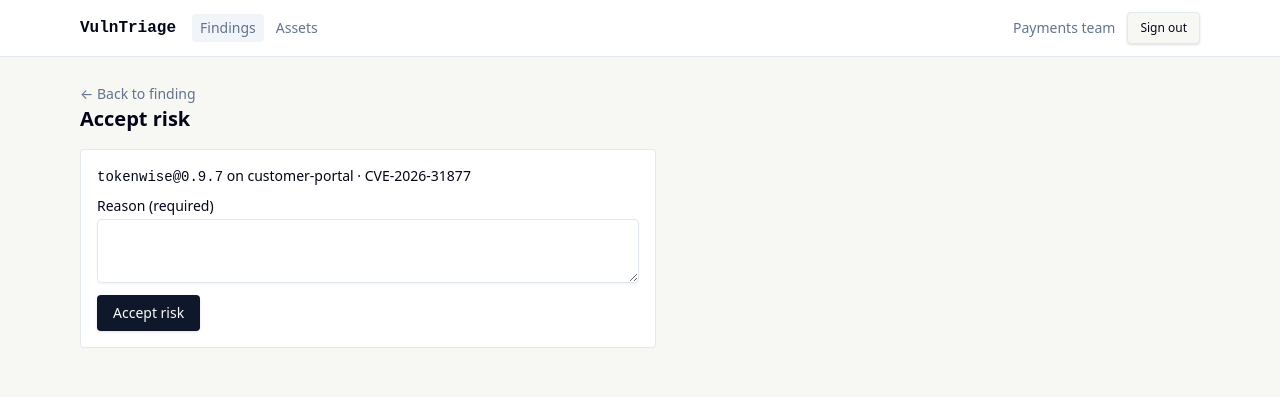
Test case: contract-shaped screens › shows the forbidden message on the accept screen and leaves the finding open
Type "Not my asset" into the text box labelled "Reason (required)" at (368, 251), box x1=97 y1=219 x2=639 y2=283
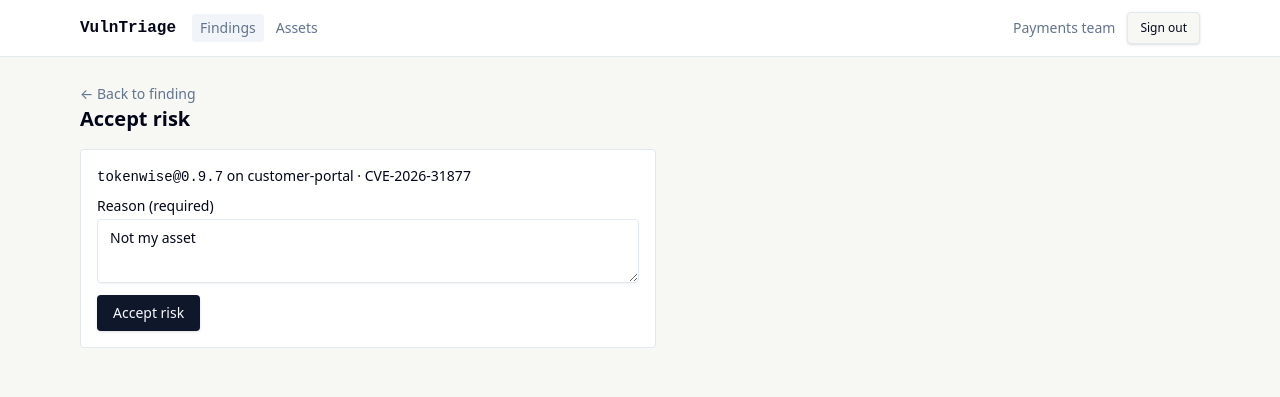
Click the button "Accept risk" at (149, 313), box x1=97 y1=295 x2=200 y2=331
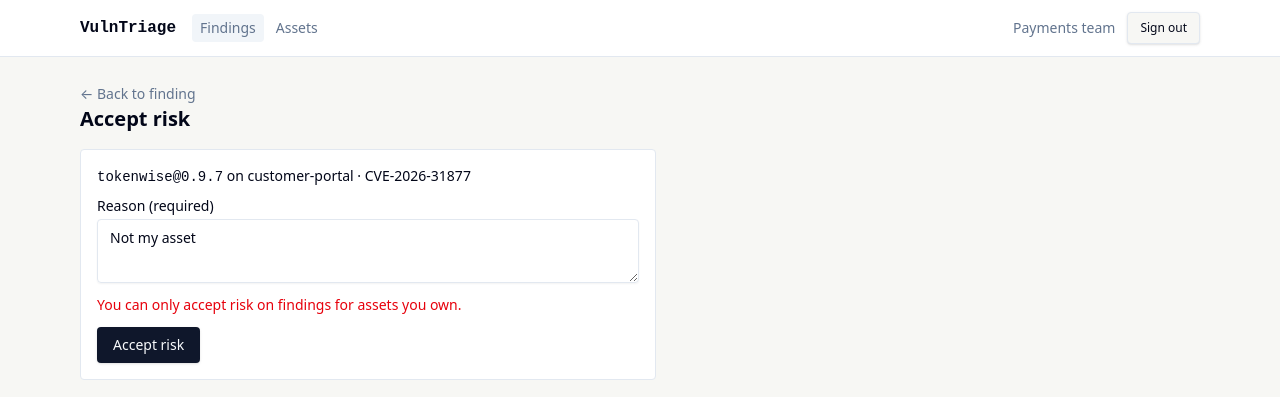
Check: the message reads "You can only accept risk on findings for assets you own.", box x1=97 y1=295 x2=462 y2=314
